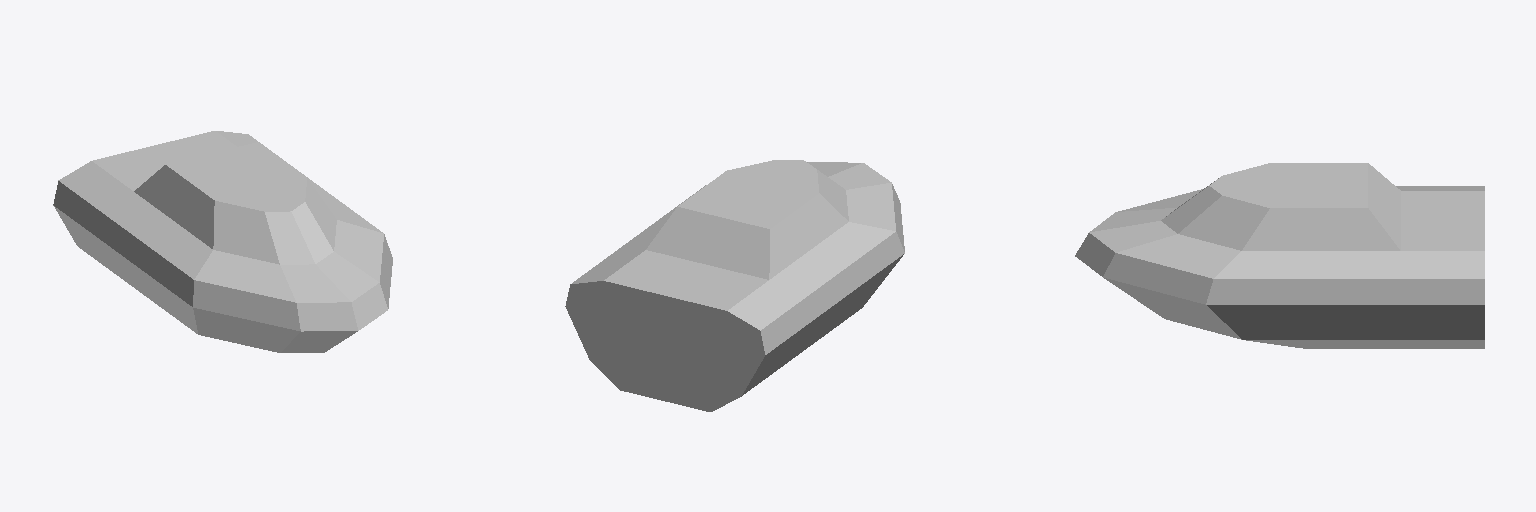
File: watercraftPack_017.obj
3 views of the same model, side by side, from view 1: azimuth 30°, elevation 25°; view 2: azimuth 150°, elevation 25°; view 3: azimuth 270°, elevation 25° (orthographic).
Visible parts, largest first — view 1: Mesh1 Group1 Model; view 2: Mesh1 Group1 Model; view 3: Mesh1 Group1 Model.
Part boxes in pixels (left/top/right/bottom): Mesh1 Group1 Model: left=53, top=131, right=392, bottom=352; Mesh1 Group1 Model: left=565, top=160, right=904, bottom=411; Mesh1 Group1 Model: left=1075, top=163, right=1484, bottom=348.
Size of the model in its own units: 1.78 by 1.2 by 3.17.